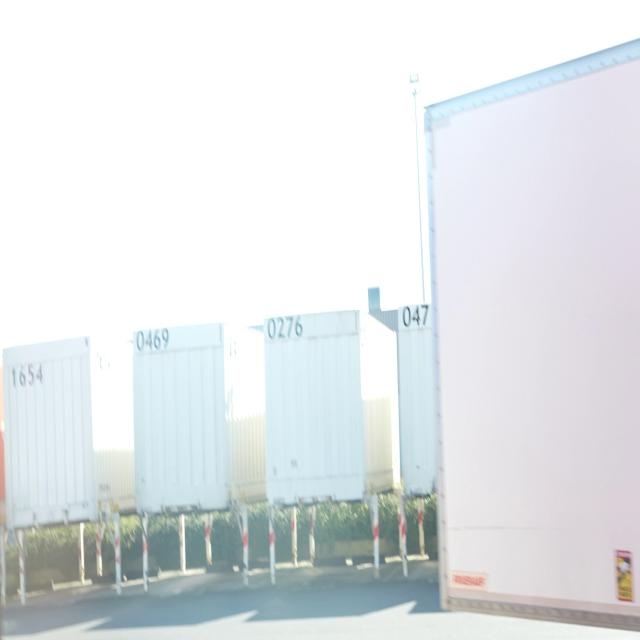Code: (10, 350, 49, 394), (264, 308, 307, 346), (131, 326, 171, 354)
